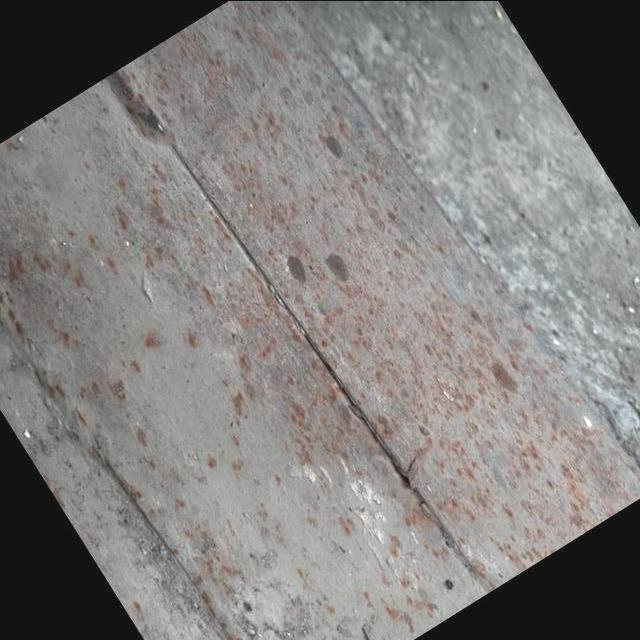defect: (287, 309, 422, 502)
